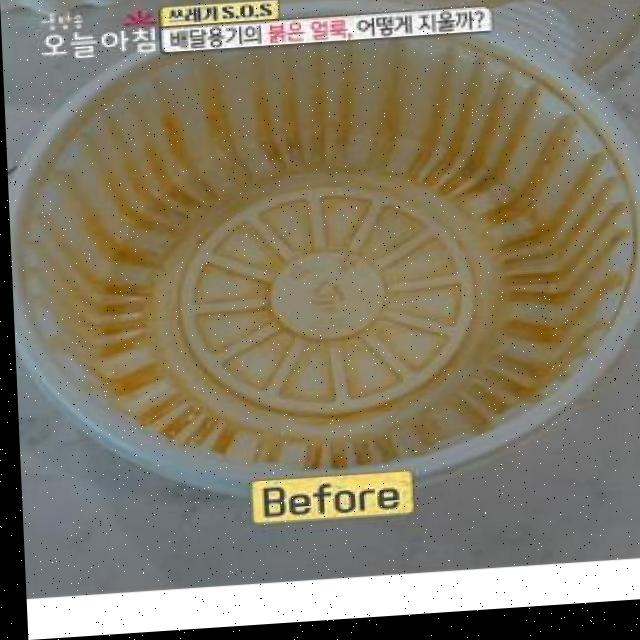disposable: (0, 0, 640, 526)
